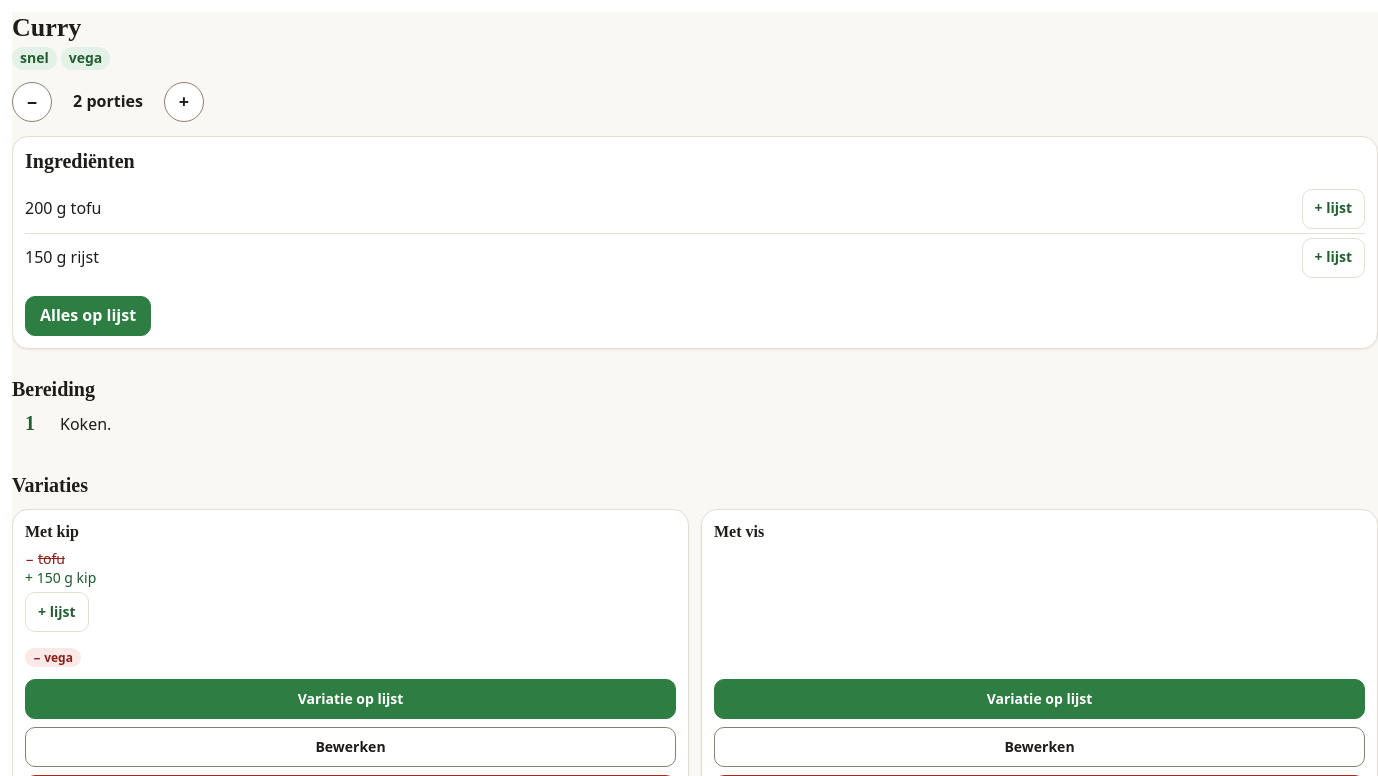
Scenario: RecipeDetailView: tags en variaties › toont de variaties als kaarten in een grid, met de porties-teller meegeschaald
Expected: the text "+ 150 g kip" is shown, [25,568,96,588]
Click the button named "Meer porties" at [184, 102], box [164,82,204,122]
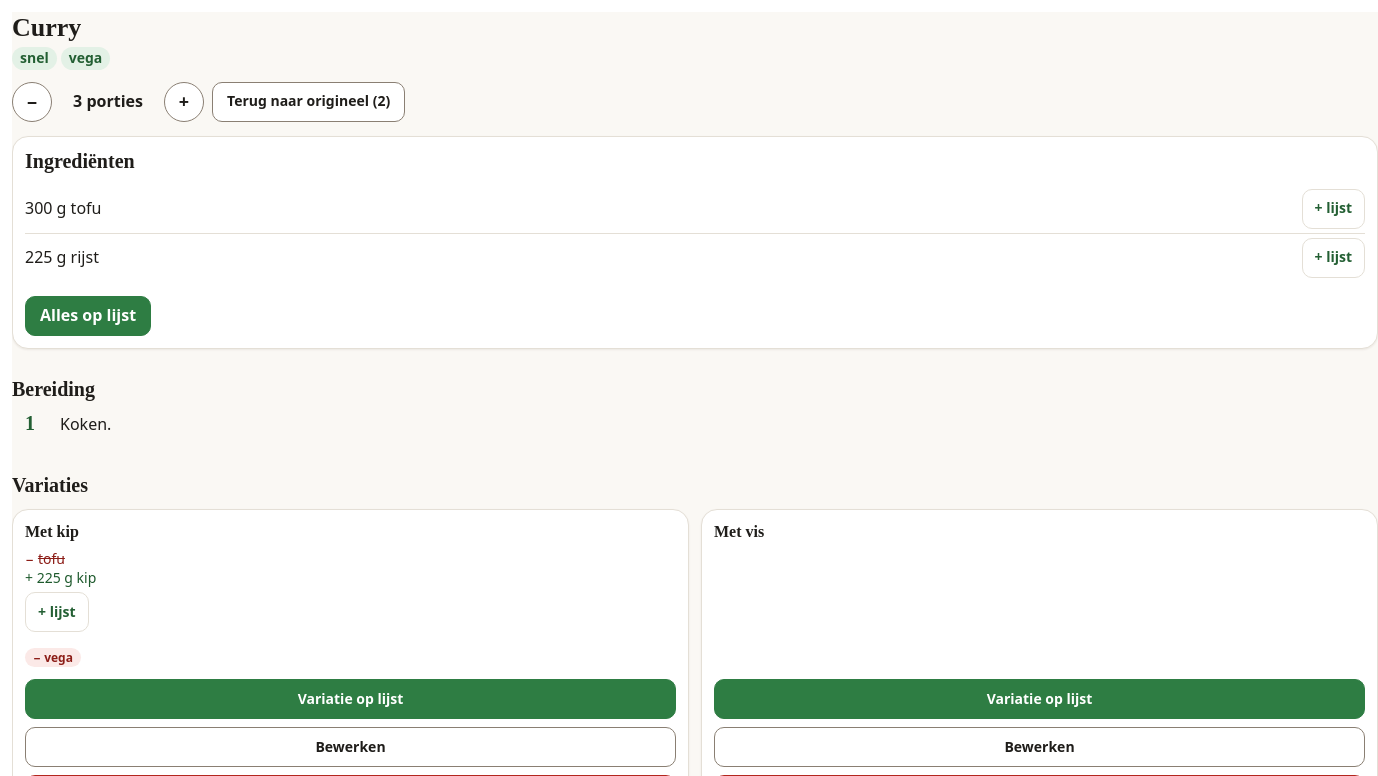
Now the text "+ 225 g kip" is shown, box [25,568,96,588]
